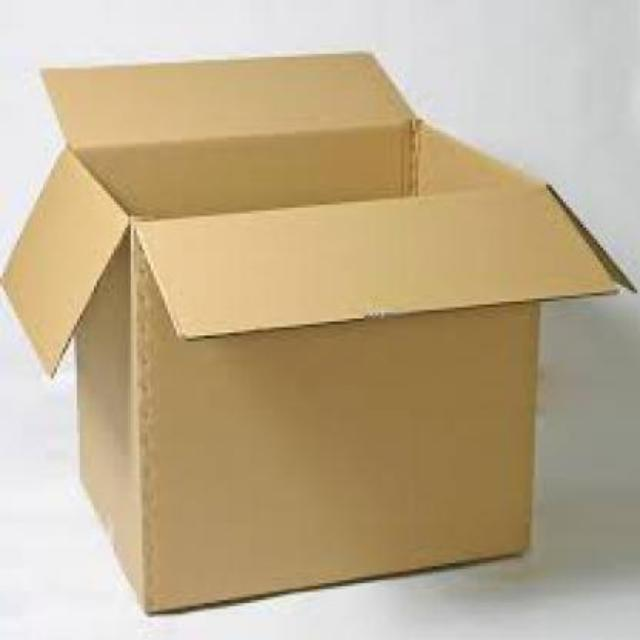cardboard_box: (19, 56, 637, 614)
